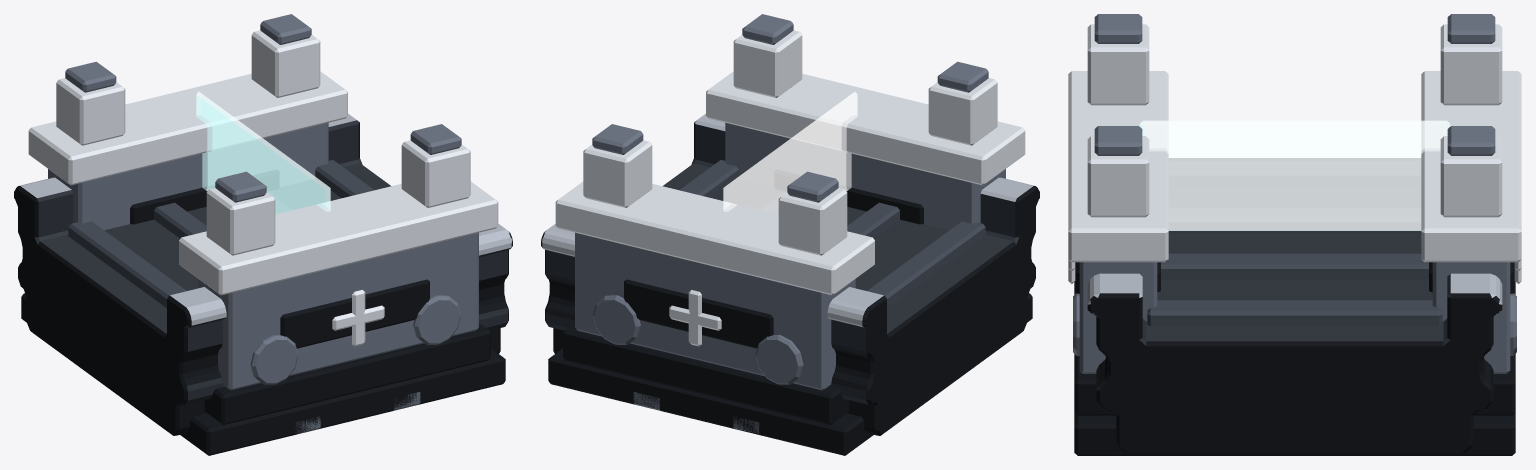
Rendered from upgrader-add.glb.
3 views of the same model, side by side, from view 1: azimuth 30°, elevation 25°; view 2: azimuth 150°, elevation 25°; view 3: azimuth 270°, elevation 25° (orthographic). The views are drawn at different scales.
Visible parts, largest first — view 1: upgrader-add; view 2: upgrader-add; view 3: upgrader-add.
Boxes of the visible parts, left/top/right/bottom form: upgrader-add: left=14, top=14, right=512, bottom=455; upgrader-add: left=541, top=14, right=1039, bottom=455; upgrader-add: left=1068, top=14, right=1521, bottom=455.
Size of the model in its own units: 1 by 0.734 by 1.03.
